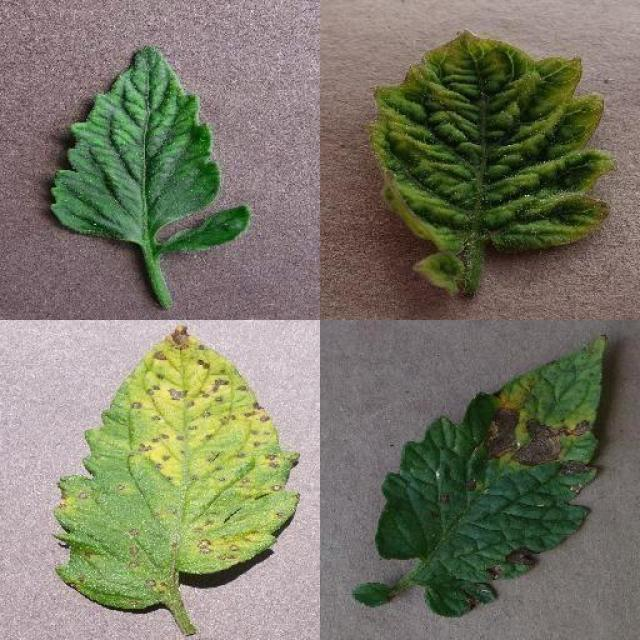Early Blight: (375, 335, 607, 615)
Septoria: (52, 325, 300, 613)
